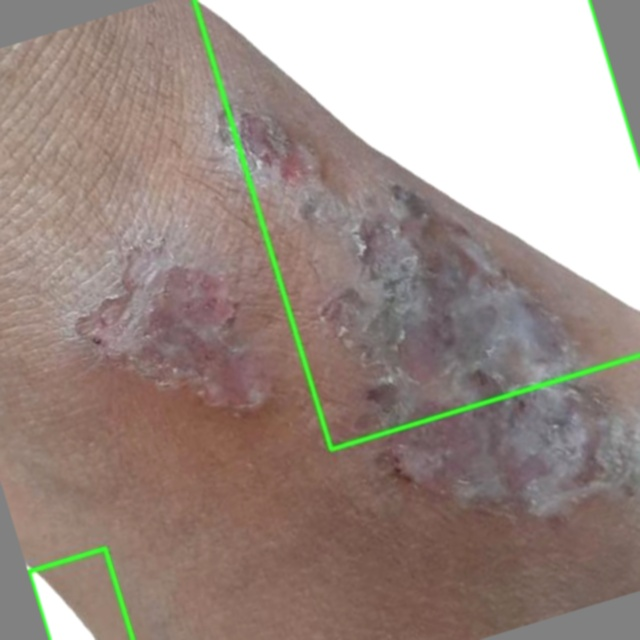Contact Dermatitis: (194, 0, 639, 449)
